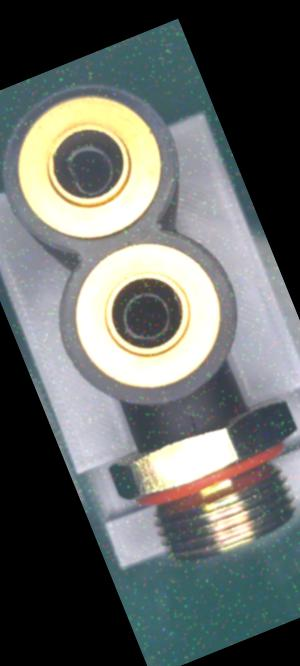craze: (180, 410, 205, 443)
off-centered: (52, 134, 127, 208), (108, 278, 182, 352)
